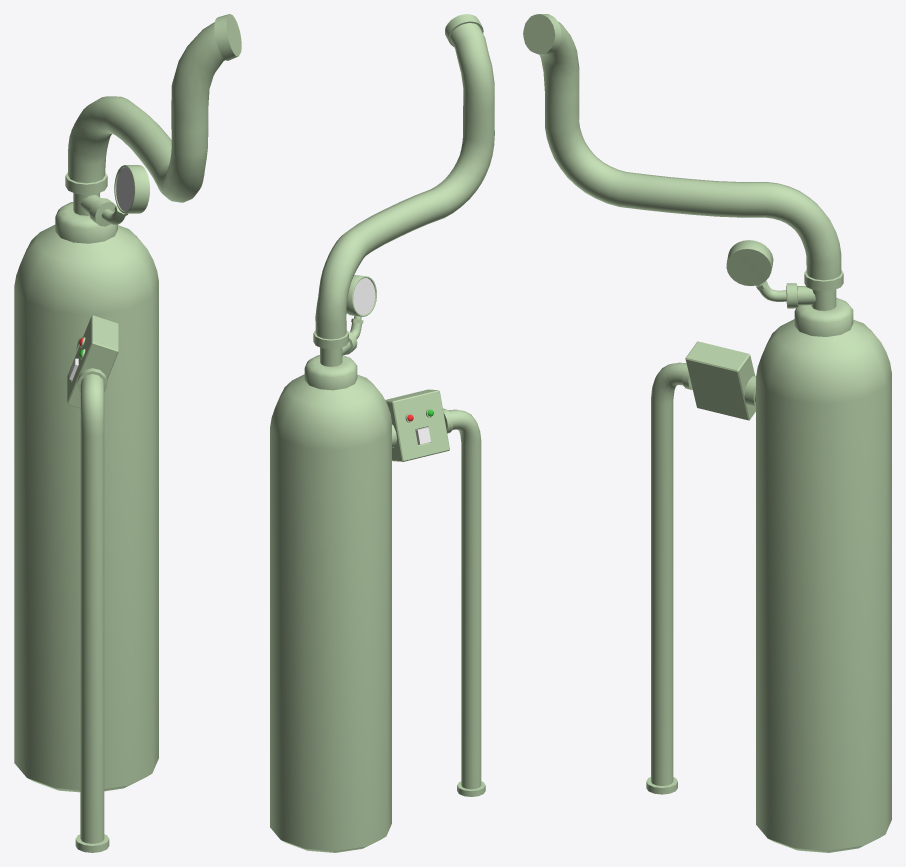
File: TP_OxygenTank.fbx
The picture shows the model from 3 angles, left to right: view 1: azimuth 30°, elevation 25°; view 2: azimuth 150°, elevation 25°; view 3: azimuth 270°, elevation 25°; orthographic projection. The views are drawn at different scales.
Parts seen in each view (by area): view 1: OxygenTank, TP_Electrolyzer, TP_OxygenGauge, TP_OxygenGaugeTransparent; view 2: OxygenTank, TP_Electrolyzer, TP_OxygenGauge, TP_OxygenGaugeTransparent; view 3: OxygenTank, TP_Electrolyzer, TP_OxygenGauge.
Boxes of the visible parts, left/top/right/bottom form: OxygenTank: left=14, top=14, right=241, bottom=792; TP_Electrolyzer: left=67, top=315, right=118, bottom=852; TP_OxygenGauge: left=80, top=165, right=149, bottom=226; TP_OxygenGaugeTransparent: left=116, top=167, right=134, bottom=211; OxygenTank: left=270, top=14, right=494, bottom=852; TP_Electrolyzer: left=385, top=389, right=485, bottom=796; TP_OxygenGauge: left=342, top=275, right=376, bottom=355; TP_OxygenGaugeTransparent: left=353, top=278, right=375, bottom=314; OxygenTank: left=523, top=14, right=891, bottom=852; TP_Electrolyzer: left=646, top=341, right=755, bottom=794; TP_OxygenGauge: left=726, top=240, right=815, bottom=308.
Size of the model in its own units: 38.26 by 200 by 82.51.
